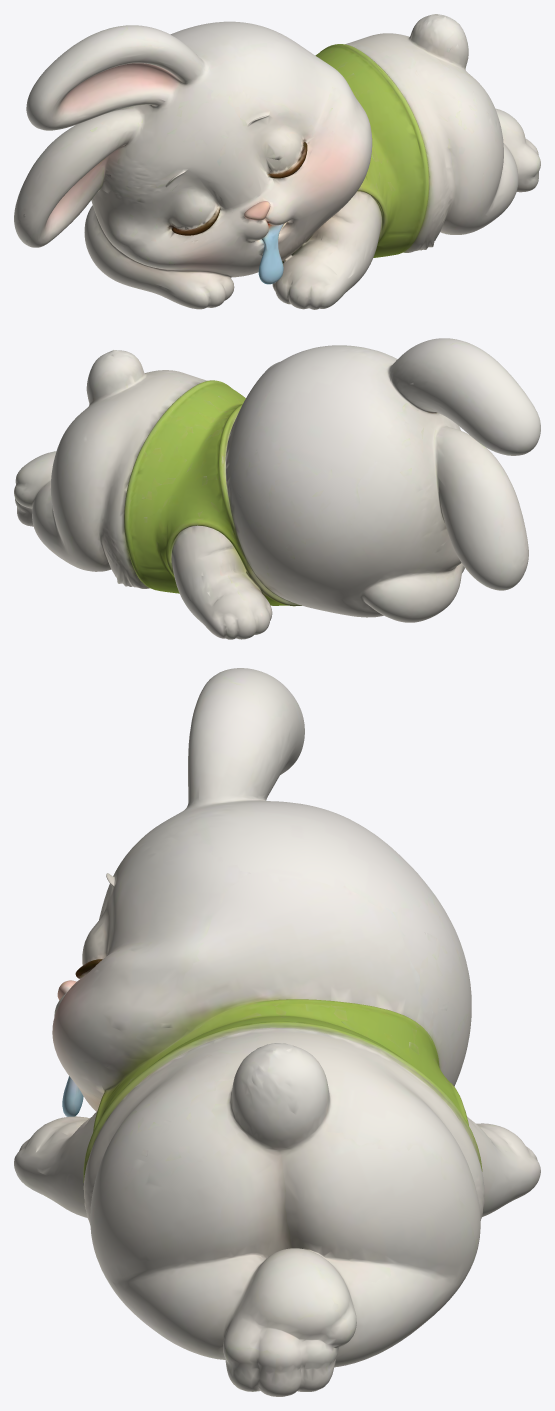
File: rabbit-sleep-deep.glb
The picture shows the model from 3 angles, top to bottom: view 1: azimuth 30°, elevation 25°; view 2: azimuth 150°, elevation 25°; view 3: azimuth 270°, elevation 25°; orthographic projection. The views are drawn at different scales.
Visible parts, largest first — view 1: node_0; view 2: node_0; view 3: node_0.
Part boxes in pixels (box(x1,y1,x2,y2)): node_0: box(14, 14, 540, 309); node_0: box(14, 338, 540, 639); node_0: box(14, 668, 540, 1396).
Bounding box in the file's own units: 1.1 × 0.5438 × 0.6352.
Materials: 1 (1 with a texture image).
